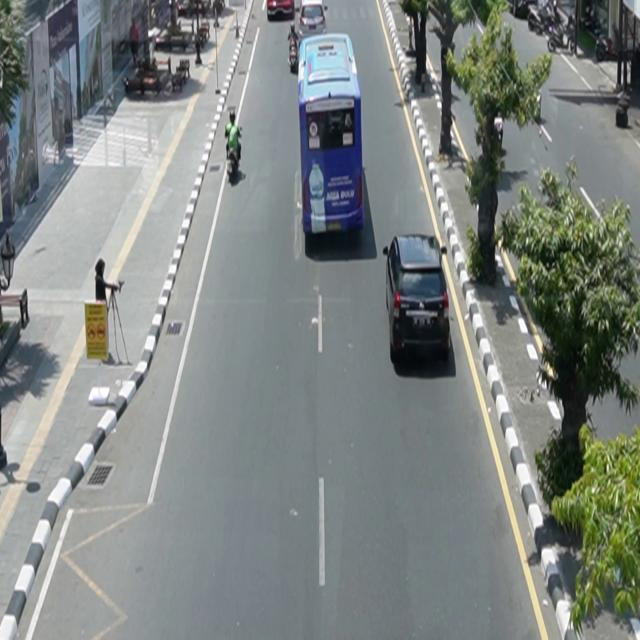bus: (298, 32, 366, 238)
car: (383, 233, 452, 363)
